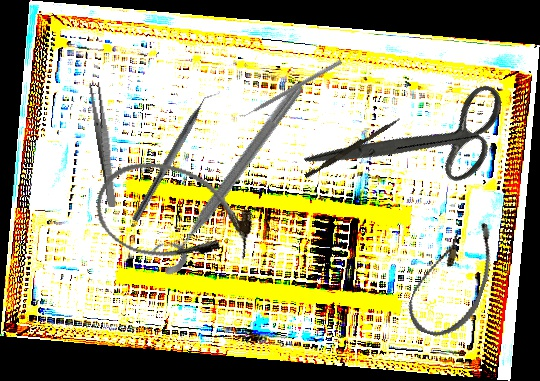Cannula: (86, 149, 263, 280), (401, 208, 505, 347)
Chopper: (131, 83, 222, 229)
Dressing Forceps: (87, 81, 121, 208)
Fixation Ring: (144, 70, 310, 280)
Iris Scissors: (303, 30, 528, 253)
Pusher: (304, 114, 401, 181)
Spatula Surgical: (237, 55, 343, 122)
